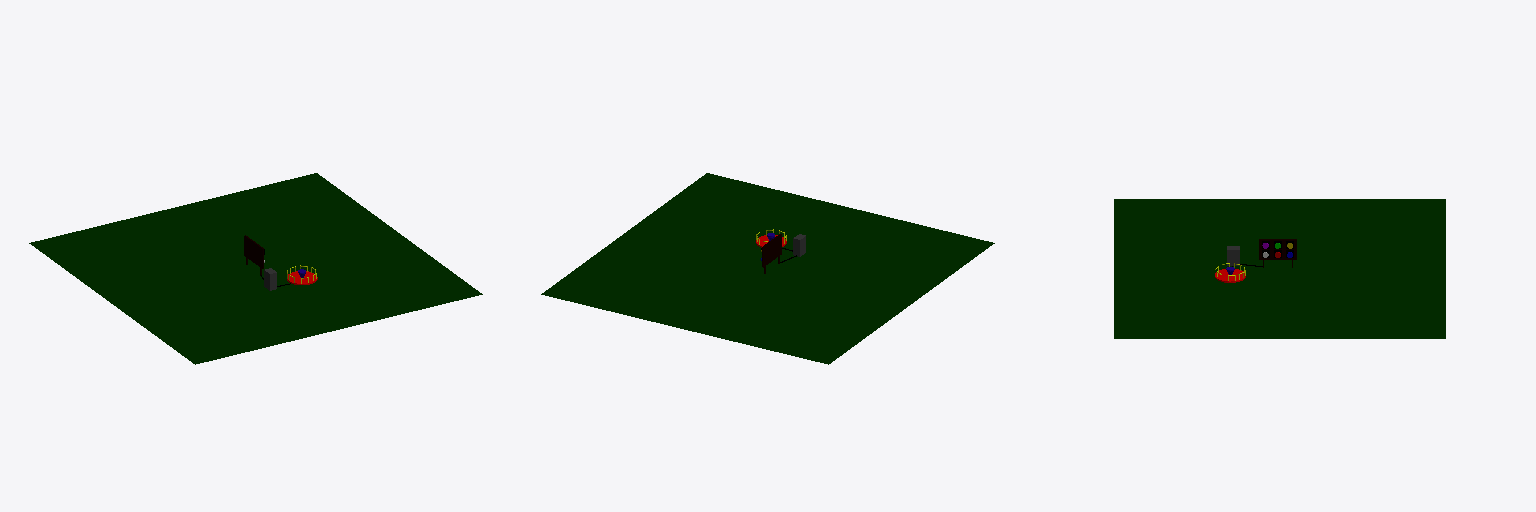
The model's file is tableauV2.obj.
The picture shows the model from 3 angles: view 1: azimuth 30°, elevation 25°; view 2: azimuth 150°, elevation 25°; view 3: azimuth 270°, elevation 25°; orthographic projection.
Visible parts, largest first — view 1: Plane; view 2: Plane; view 3: Plane, Cube.
Part boxes in pixels (bbox=[...]): Plane: bbox=[29, 173, 482, 364]; Plane: bbox=[541, 173, 994, 364]; Plane: bbox=[1114, 199, 1445, 338]; Cube: bbox=[1259, 239, 1296, 267].
Size of the model in its own units: 80.89 by 8.18 by 80.89.